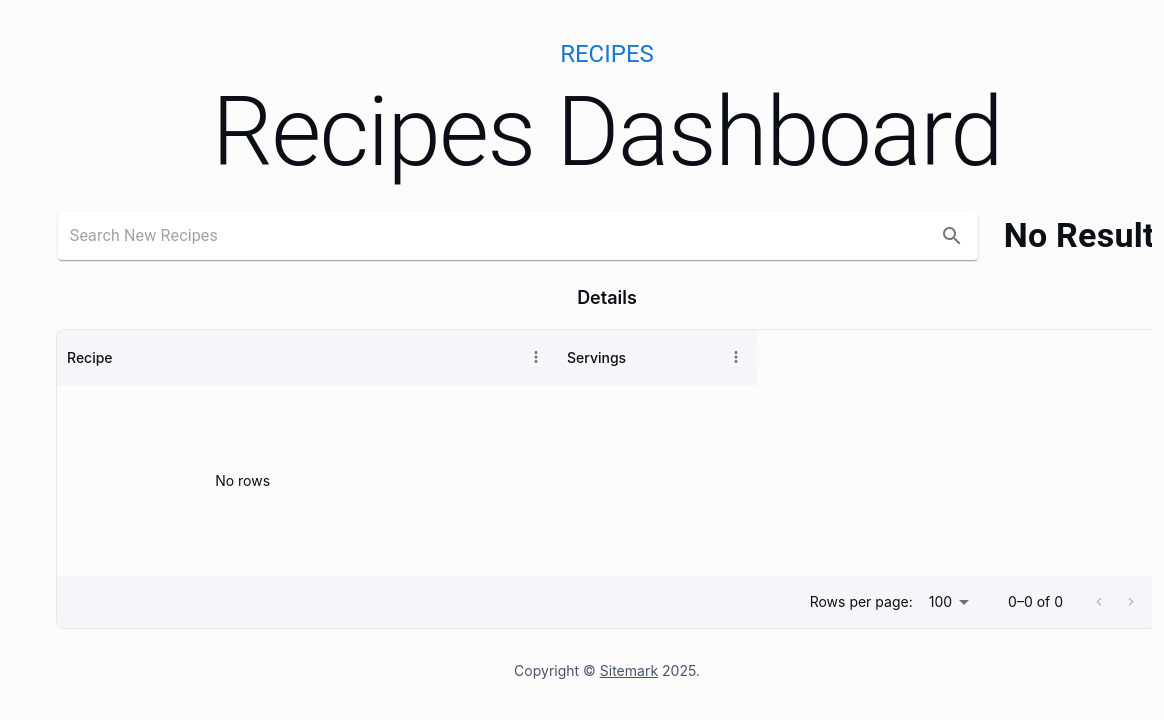
Scenario: App functions › Search field queries api recipes
Type "pasta" into the field labelled "Search New Recipes" at (500, 236), box [70,220,930,252]
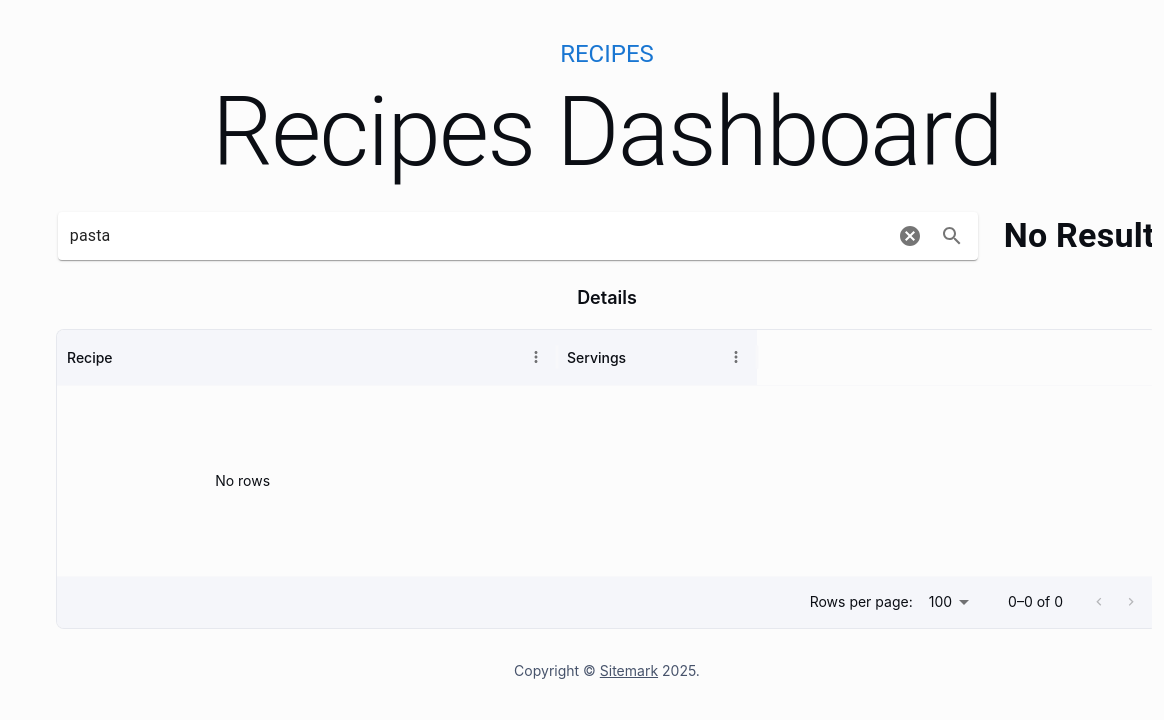
Click the button named "search" at (952, 236), box [930,214,974,258]
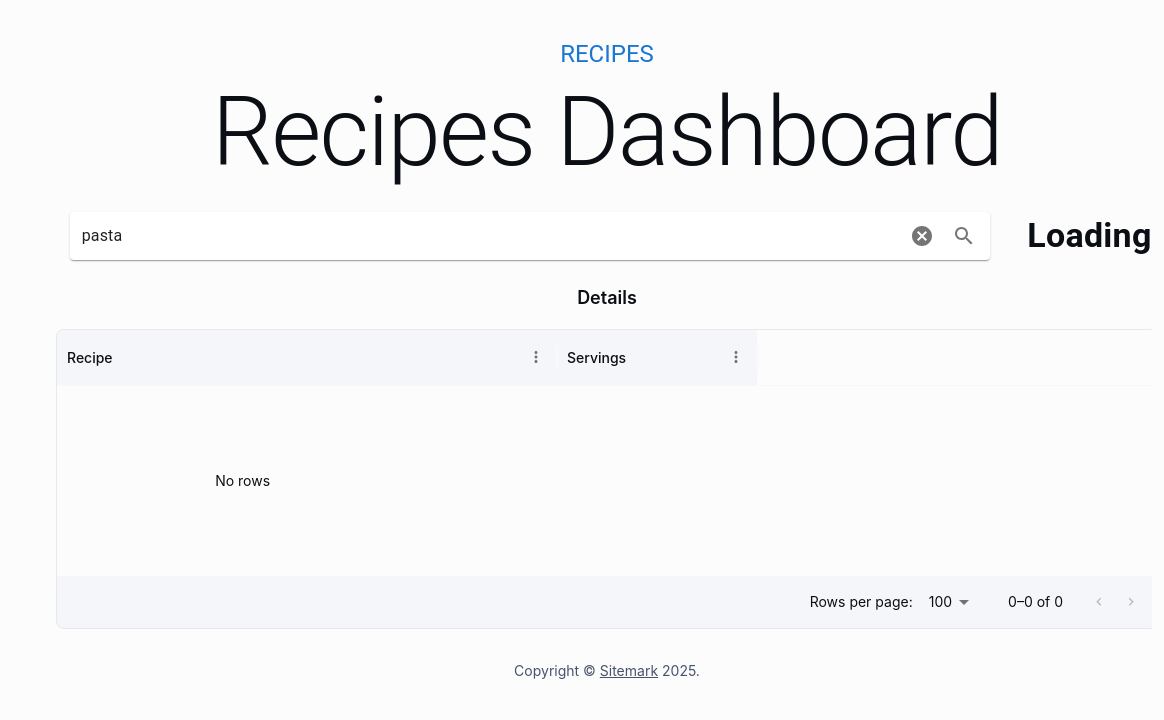
Click the button named "clear text" at (922, 236), box [902,216,942,256]
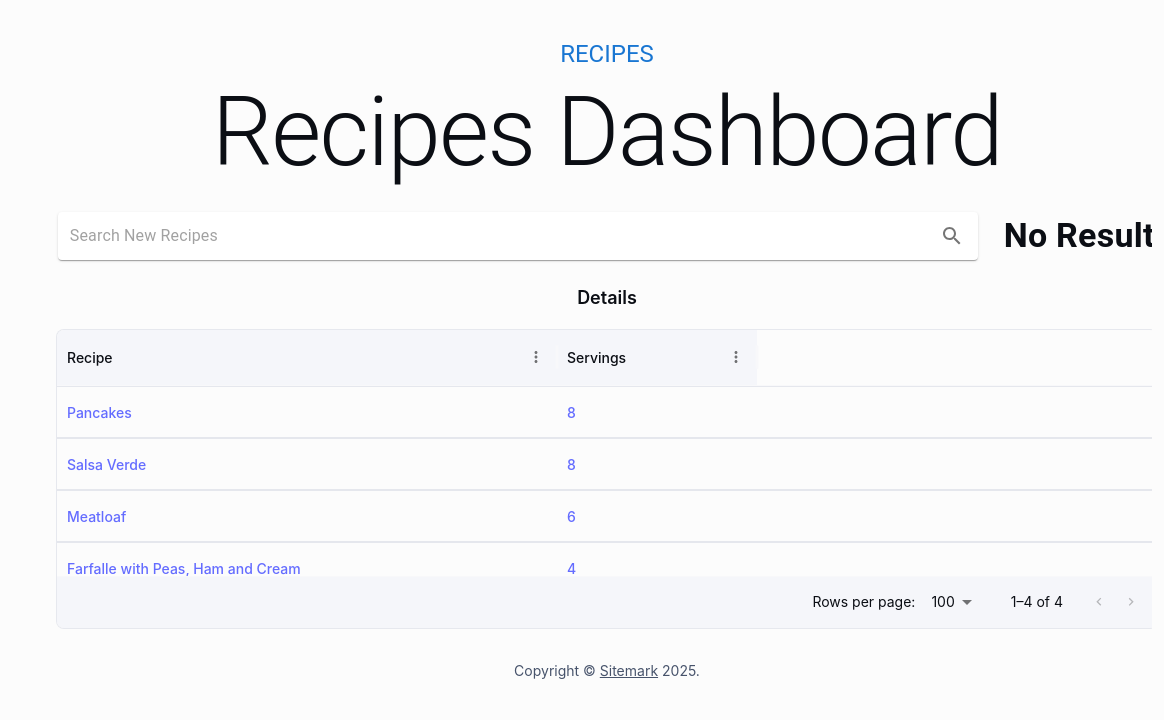
expect the field labelled "Search New Recipes" is empty: met, box [70,220,930,252]
